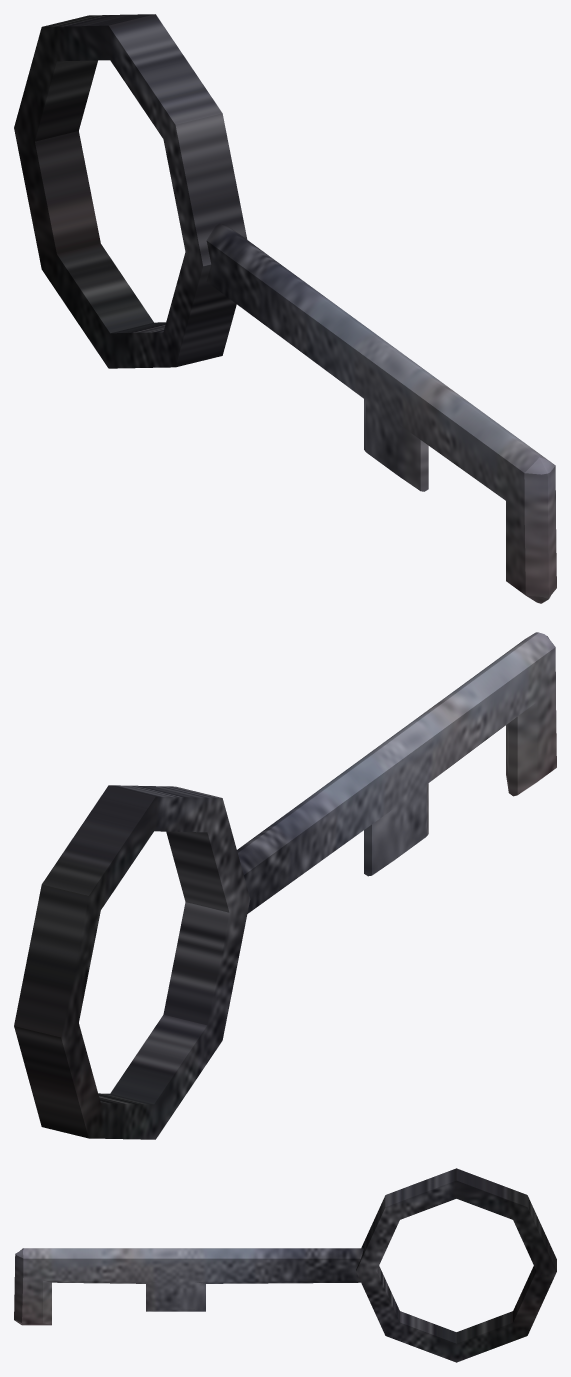
File: SM_Metal Key_01.fbx
The picture shows the model from 3 angles, top to bottom: view 1: azimuth 30°, elevation 25°; view 2: azimuth 150°, elevation 25°; view 3: azimuth 270°, elevation 25°; orthographic projection. The views are drawn at different scales.
Visible parts, largest first — view 1: Metal Key; view 2: Metal Key; view 3: Metal Key.
Part boxes in pixels (box(x1,y1,x2,y2)): Metal Key: box(14, 14, 556, 603); Metal Key: box(14, 632, 556, 1139); Metal Key: box(14, 1168, 556, 1362).
Bounding box in the file's own units: 3.26 × 22.66 × 61.23.
